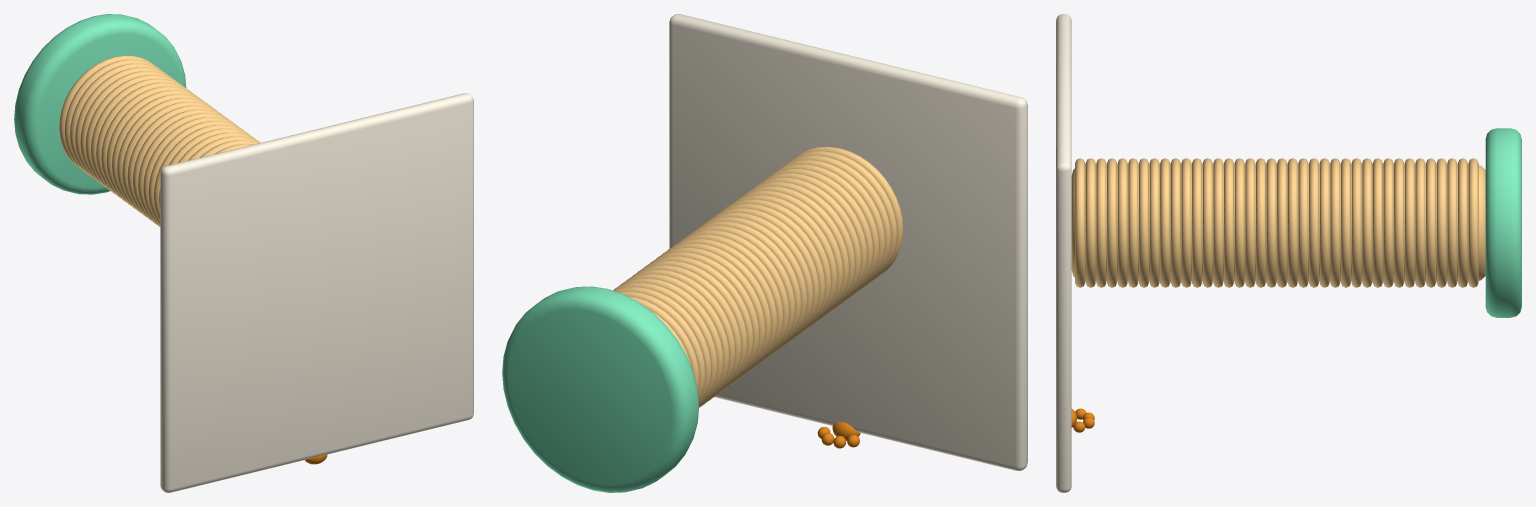
Rendered from ScratchPost_Premium.fbx.
The picture shows the model from 3 angles, left to right: view 1: azimuth 30°, elevation 25°; view 2: azimuth 150°, elevation 25°; view 3: azimuth 270°, elevation 25°; orthographic projection. The views are drawn at different scales.
Parts seen in each view (by area): view 1: ScratchPost_Body; view 2: ScratchPost_Body; view 3: ScratchPost_Body.
Part boxes in pixels (x1=…): ScratchPost_Body: x1=14, y1=14, x2=473, y2=492; ScratchPost_Body: x1=502, y1=14, x2=1027, y2=492; ScratchPost_Body: x1=1056, y1=14, x2=1521, y2=492.
Bounding box in the file's own units: 0.6497 × 0.6677 × 0.8321.
